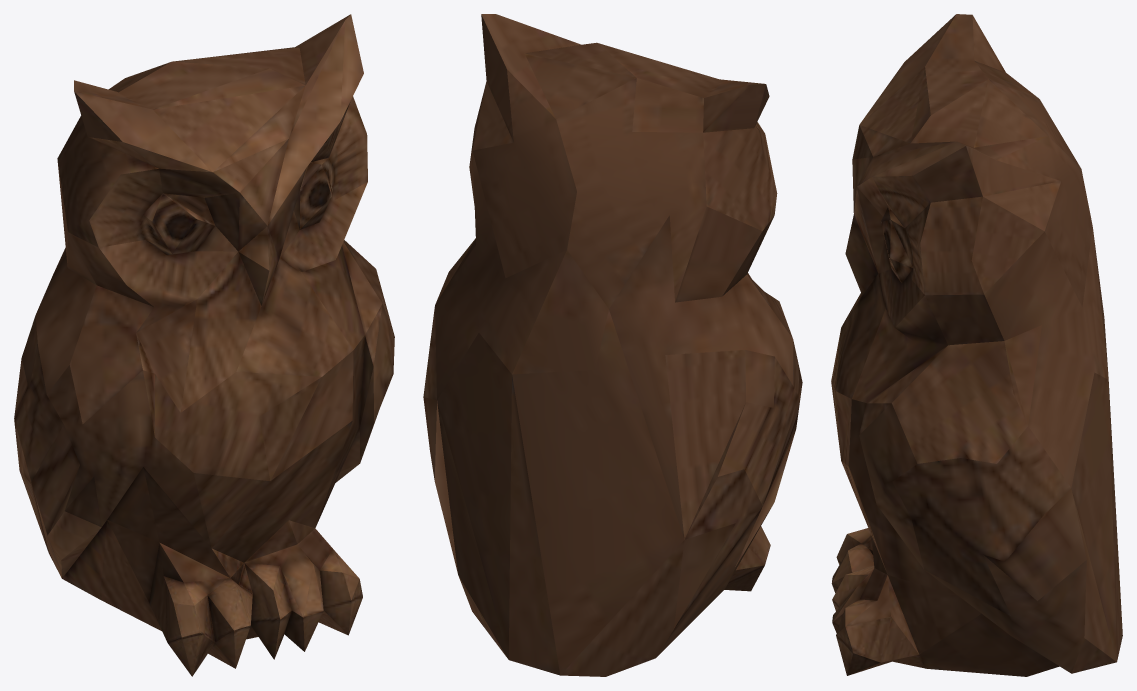
Rendered from owl.glb.
The picture shows the model from 3 angles, left to right: view 1: azimuth 30°, elevation 25°; view 2: azimuth 150°, elevation 25°; view 3: azimuth 270°, elevation 25°; orthographic projection.
Parts seen in each view (by area): view 1: Mesh_0; view 2: Mesh_0; view 3: Mesh_0.
Part boxes in pixels (x1,y1,x2,y2): Mesh_0: [14, 14, 394, 676]; Mesh_0: [423, 14, 802, 676]; Mesh_0: [831, 14, 1122, 676].
Bounding box in the file's own units: 1.19 × 1.9 × 0.8849.
Materials: 1 (1 with a texture image).
